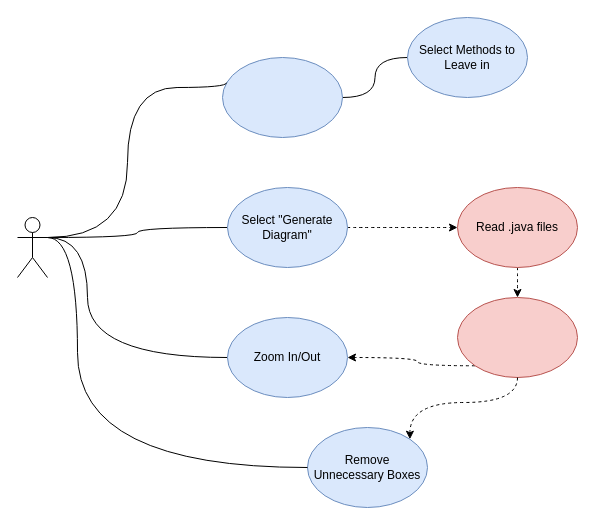
This 595x525 diagram has some shape labels left out. Each missing label, with the box of its shape:
Choose Package/Folder: (222, 56, 342, 138)
Graph diagram: (456, 296, 578, 378)
User: (16, 216, 48, 278)
